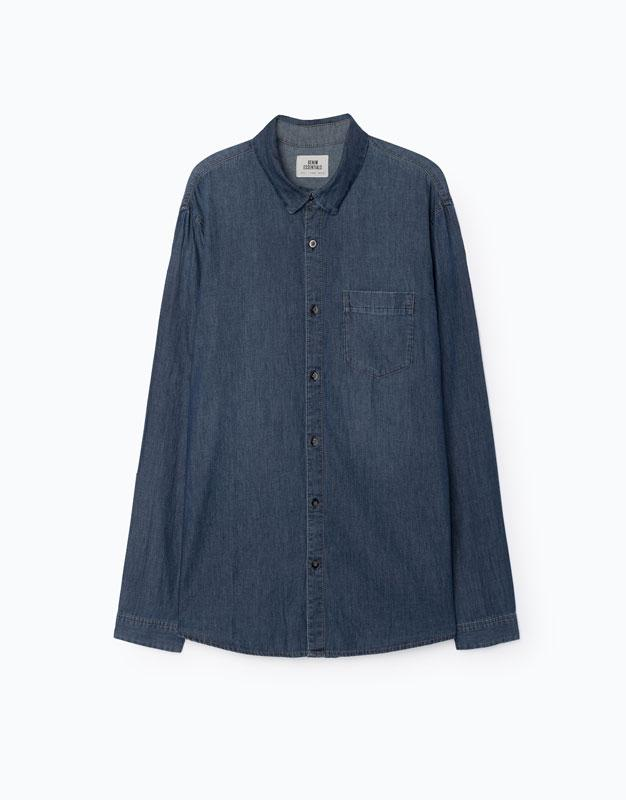teeshirt: (103, 112, 535, 664)
